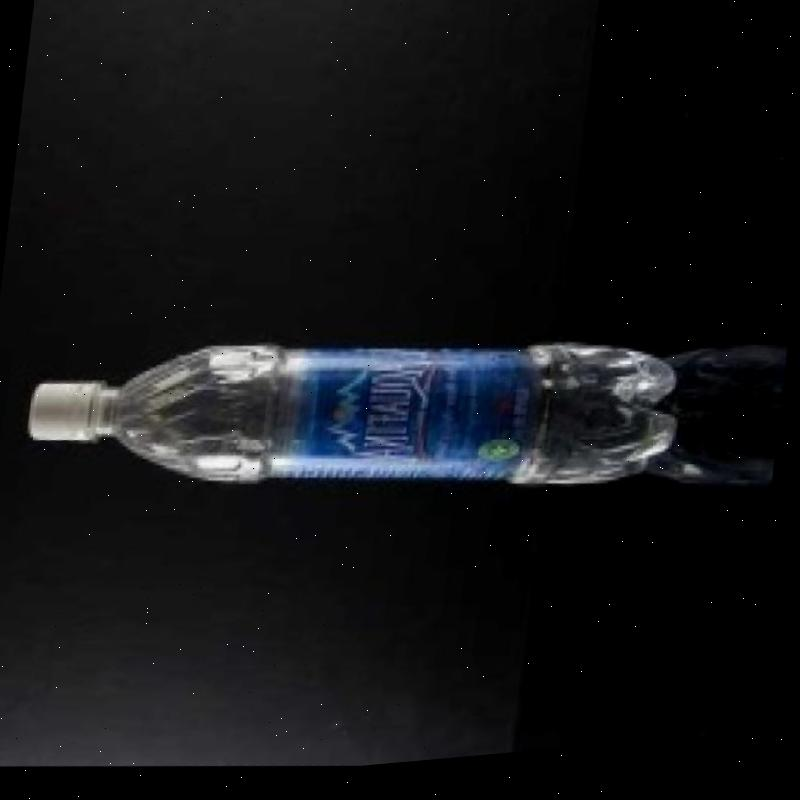botella: (19, 299, 697, 563)
